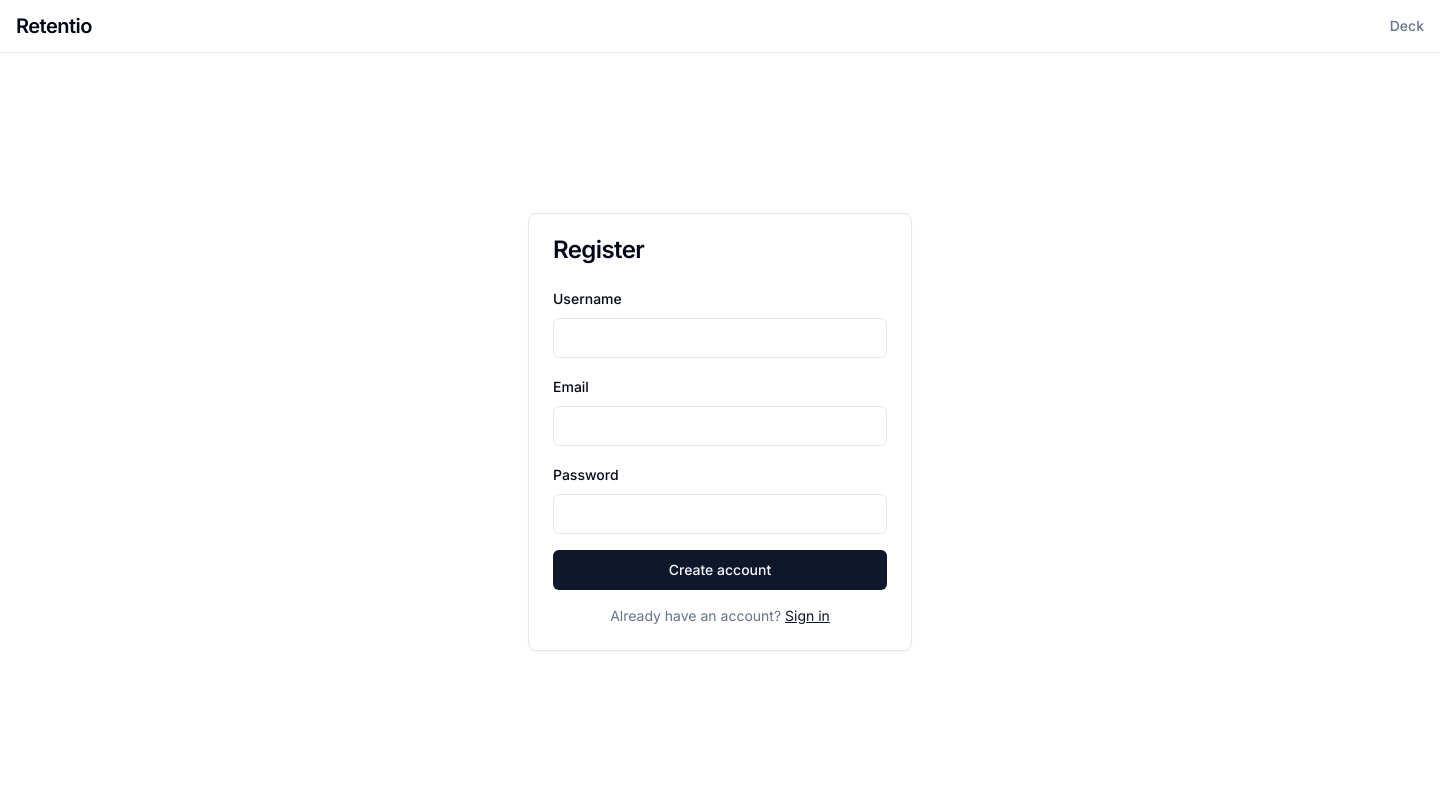
Test: RegisterPage › shows success message after successful registration
Type "alice" into the field labelled "Username".
click(720, 338); type("alice")  # box [553,318,887,358]
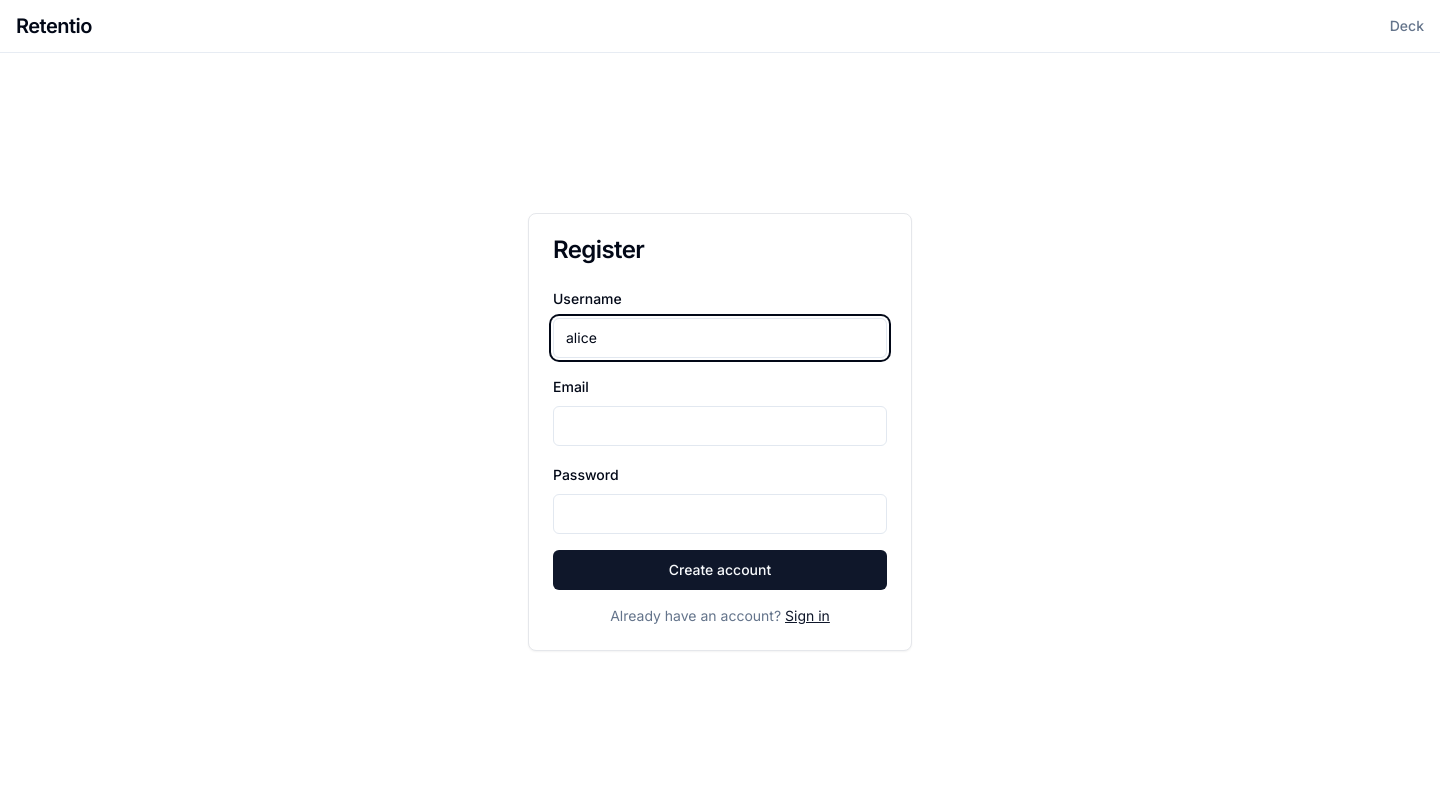
Type "alice@example.com" into the field labelled "Email".
click(720, 426); type("alice@example.com")  # box [553,406,887,446]
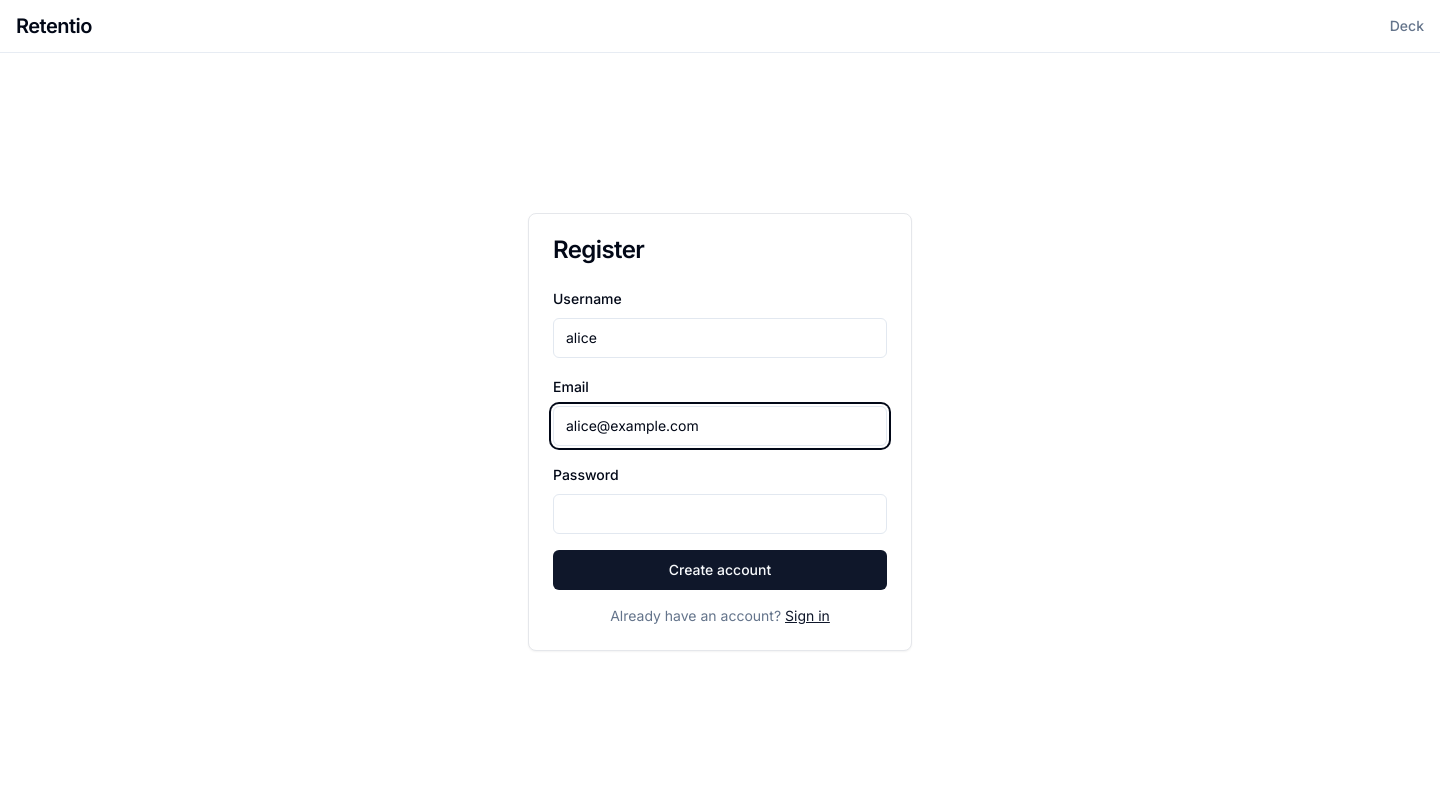
Type "secret12" into the password field labelled "Password".
click(720, 514); type("secret12")  # box [553,494,887,534]
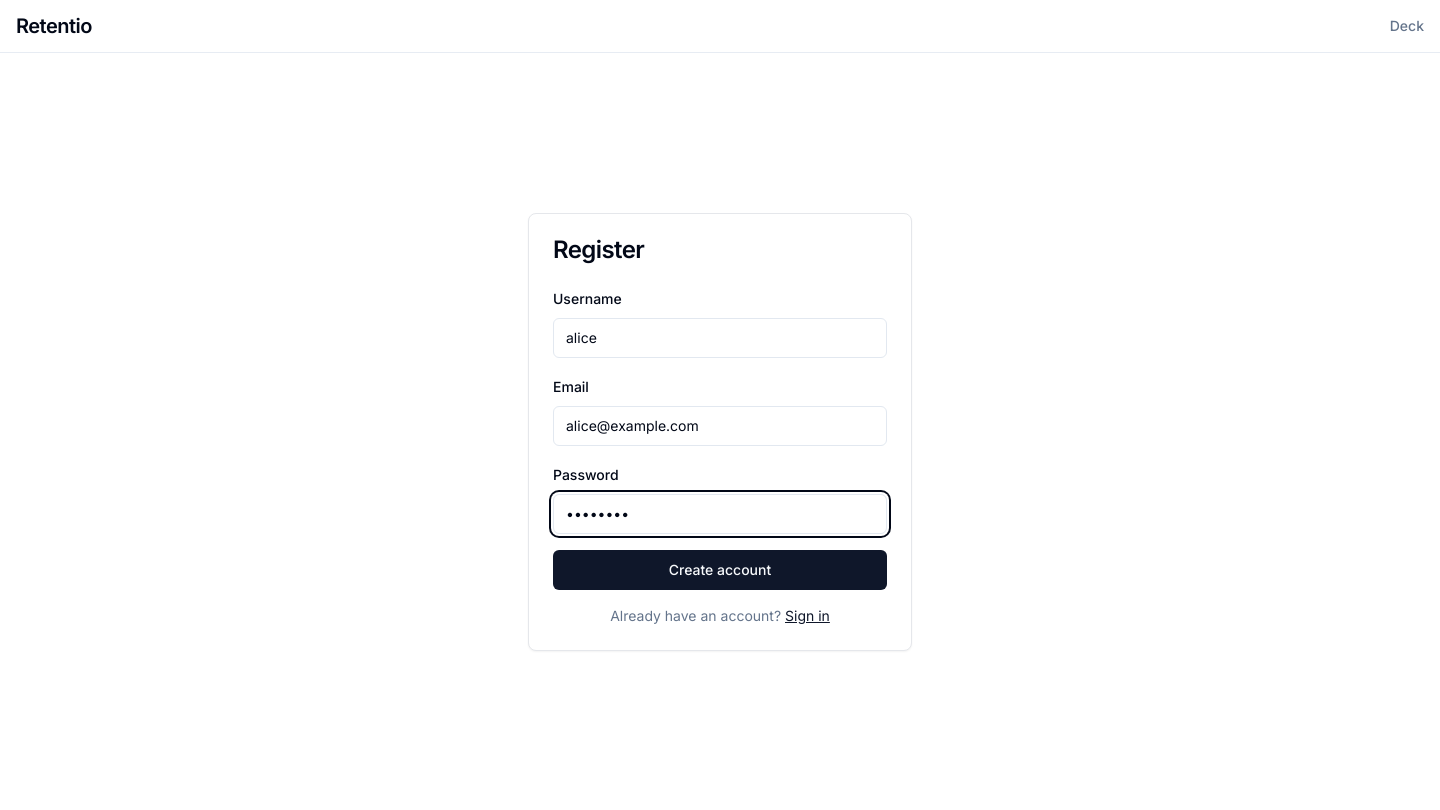
Click the button "Create account".
click(720, 570)  # box [553,550,887,590]
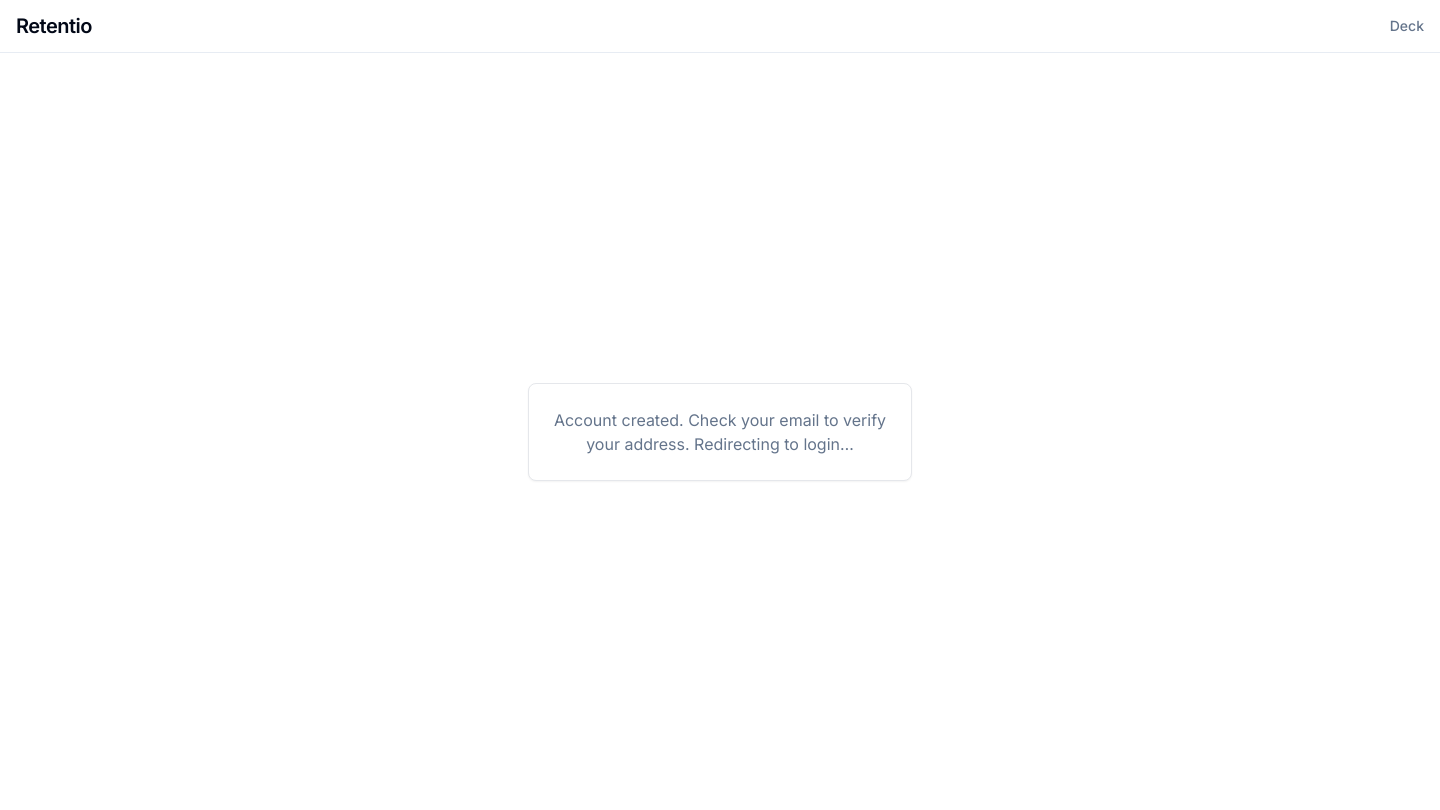
Expected: the text "Account created" is shown, [554,410,886,454]
